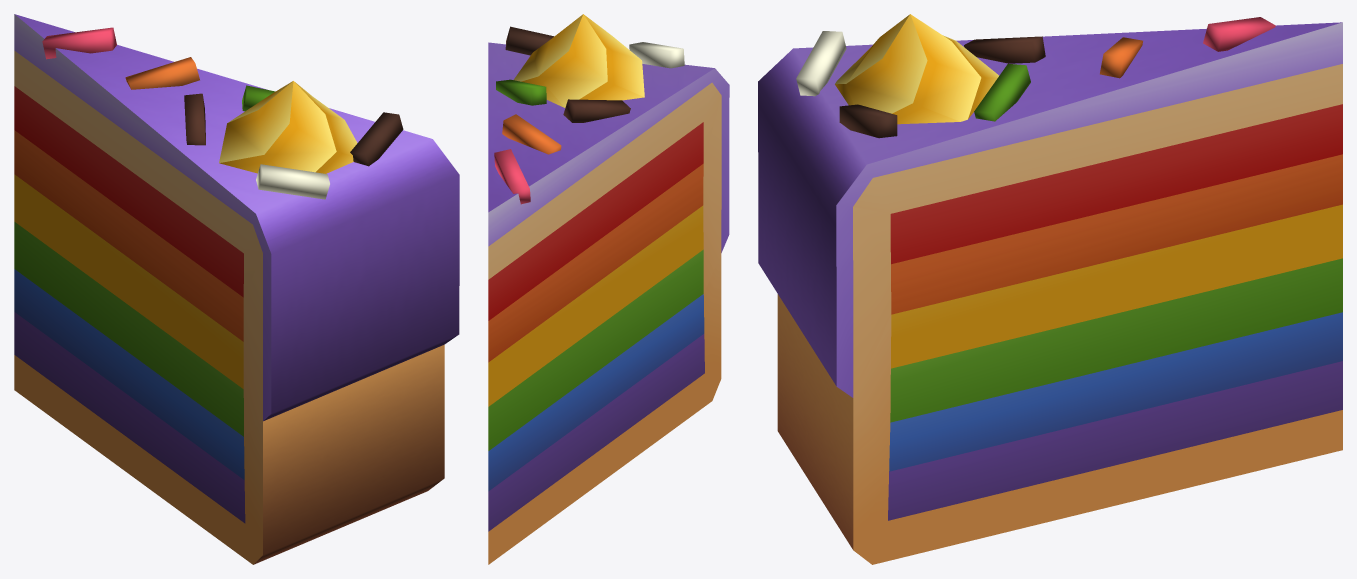
Rendered from m_RainbowCake02_Slice01.fbx.
The picture shows the model from 3 angles, left to right: view 1: azimuth 30°, elevation 25°; view 2: azimuth 150°, elevation 25°; view 3: azimuth 270°, elevation 25°; orthographic projection. The views are drawn at different scales.
Visible parts, largest first — view 1: m_RainbowCake02_Slice01; view 2: m_RainbowCake02_Slice01; view 3: m_RainbowCake02_Slice01.
Boxes of the visible parts, x1,y1,x2,y2 form: m_RainbowCake02_Slice01: [14, 14, 459, 564]; m_RainbowCake02_Slice01: [488, 14, 729, 564]; m_RainbowCake02_Slice01: [758, 14, 1342, 564].
Size of the model in its own units: 7.51 by 13.27 by 14.48.
